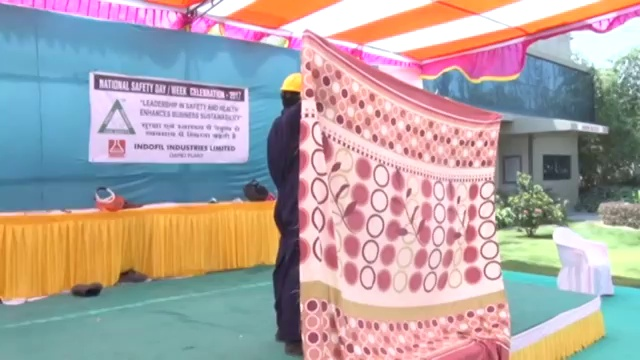helmet: (281, 70, 302, 94)
helmet_on: (279, 69, 303, 110)
person: (265, 71, 304, 357)
